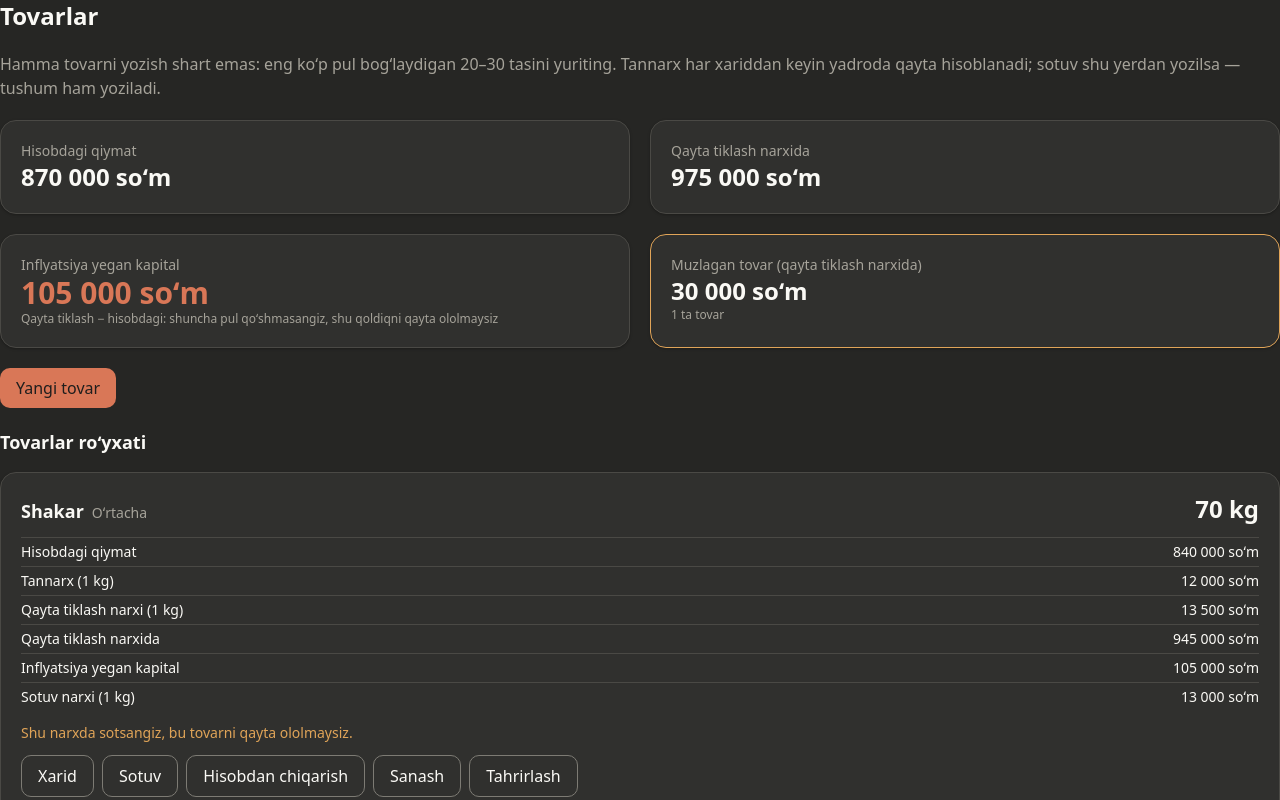
Test case: Kasb-kor: tovarlar (K5) › sotuv: summa bo'sh — sotuv narxi bo'yicha (yadroda); yetmasa — yadro xatosi
This screenshot has width=1280, height=800.
Click the button "Sotuv" at (140, 776), box [102,755,178,797]
(page scrolled)
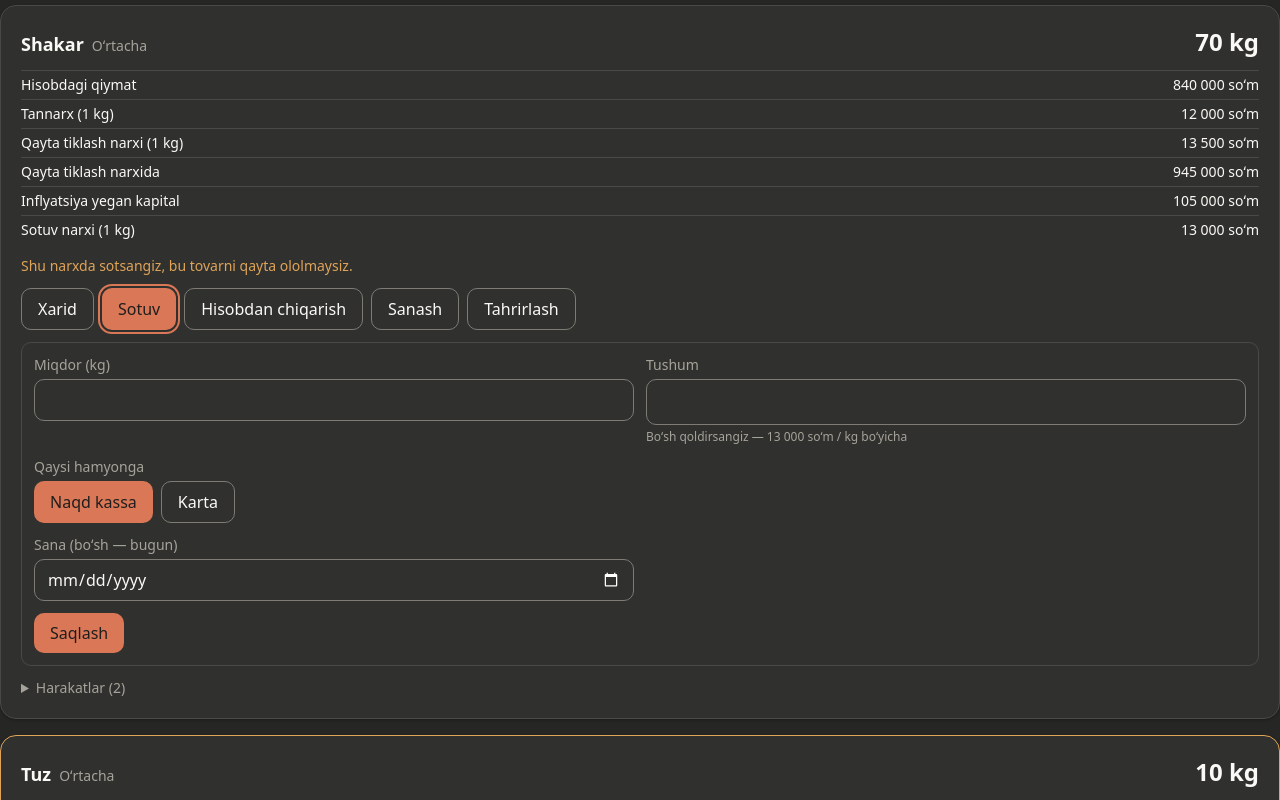
Type "80" into the field labelled "Miqdor (kg)" at (334, 400), box [34,379,634,421]
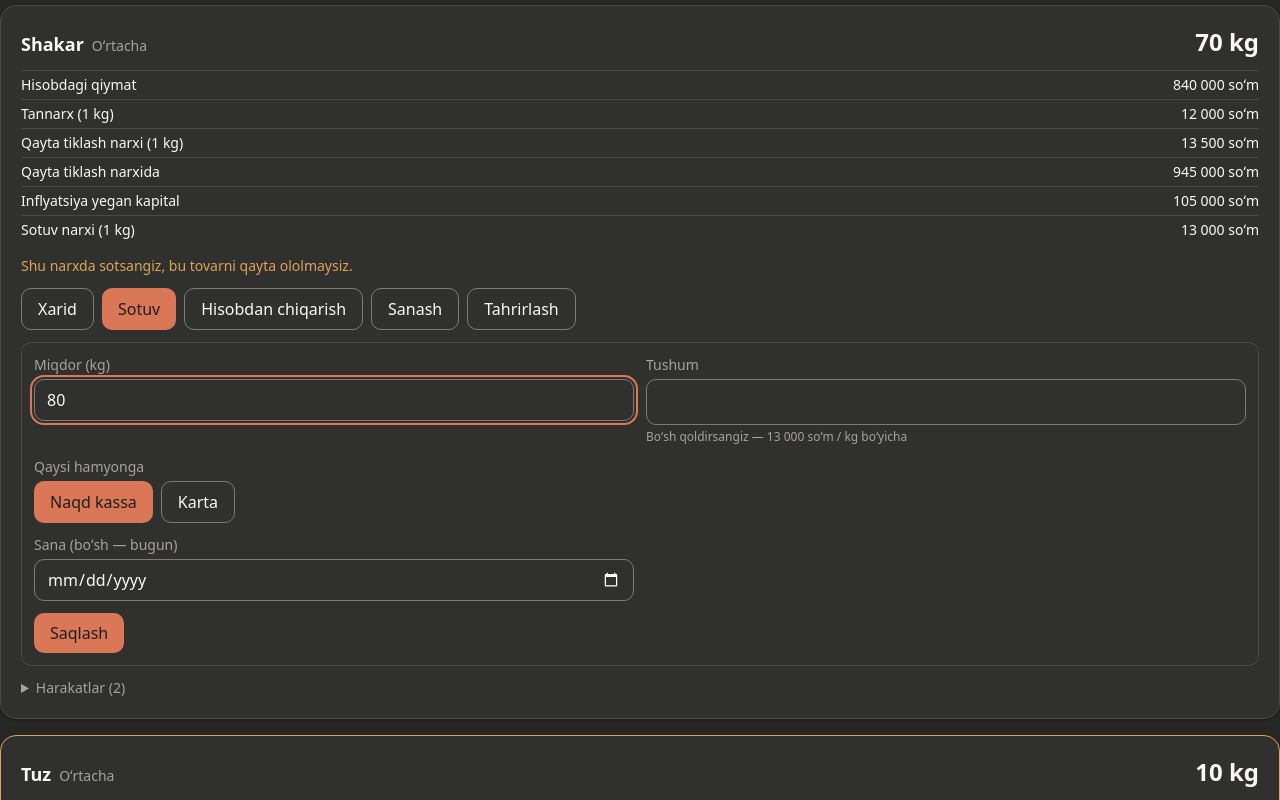
Click the button "Saqlash" at (79, 633), box [34,613,124,653]
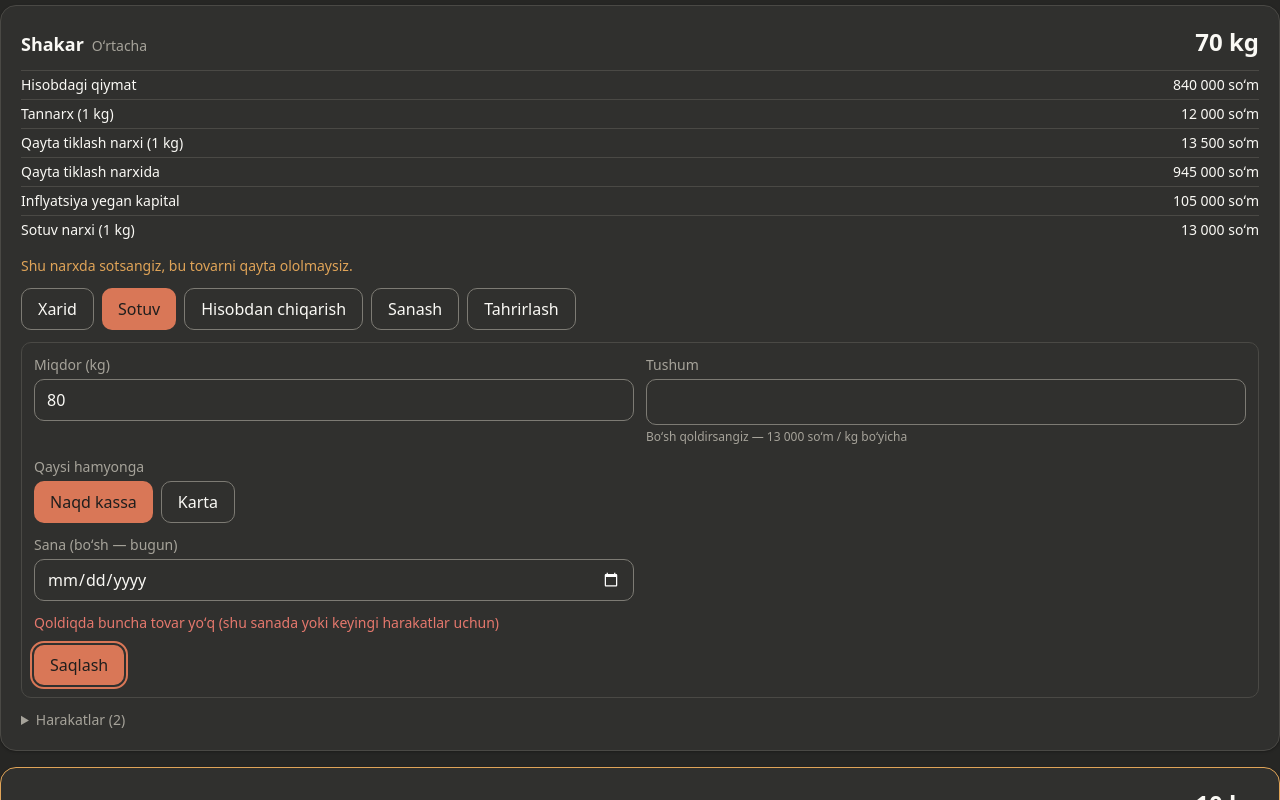
expect the message shows "Qoldiqda buncha tovar yoʻq": met, box [34,613,499,632]
